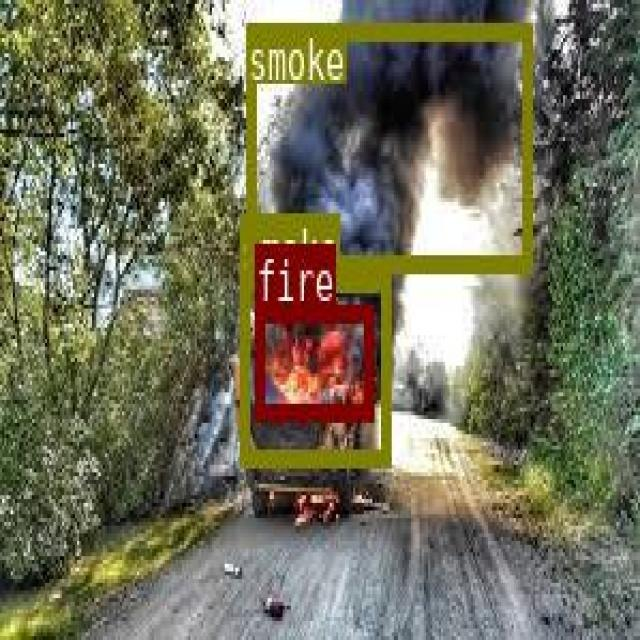fire: (253, 302, 372, 418)
smoke: (246, 21, 530, 269), (238, 273, 388, 461)
